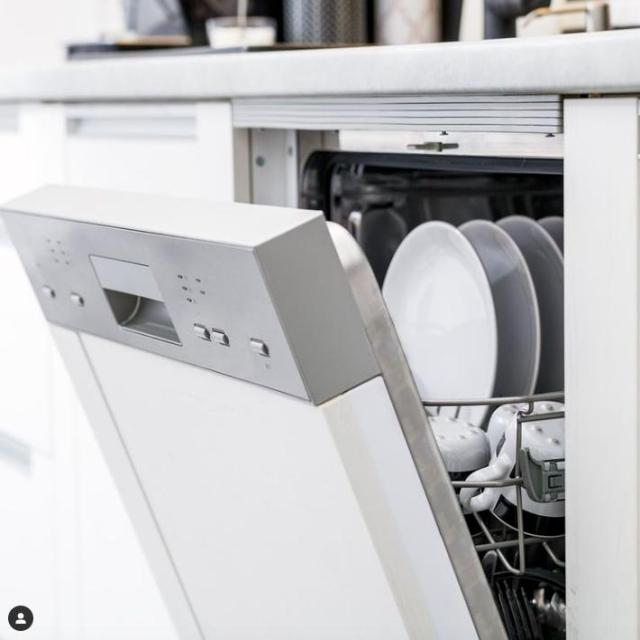dishwasher: (1, 92, 563, 639)
